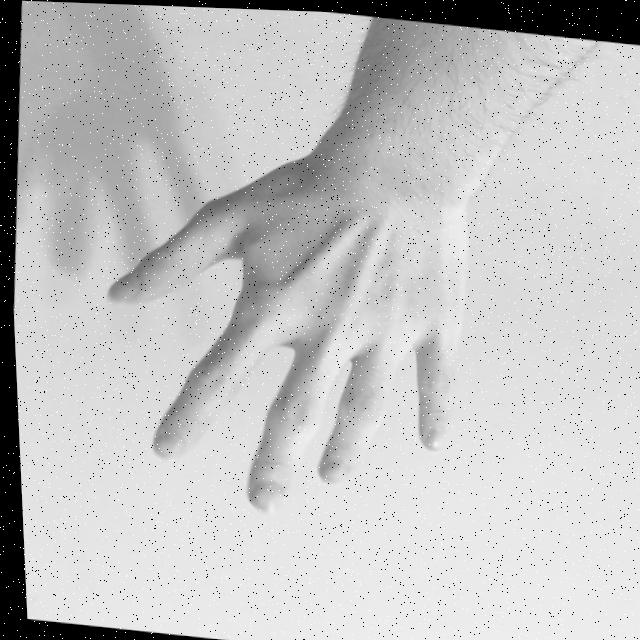hand: (80, 145, 472, 532)
